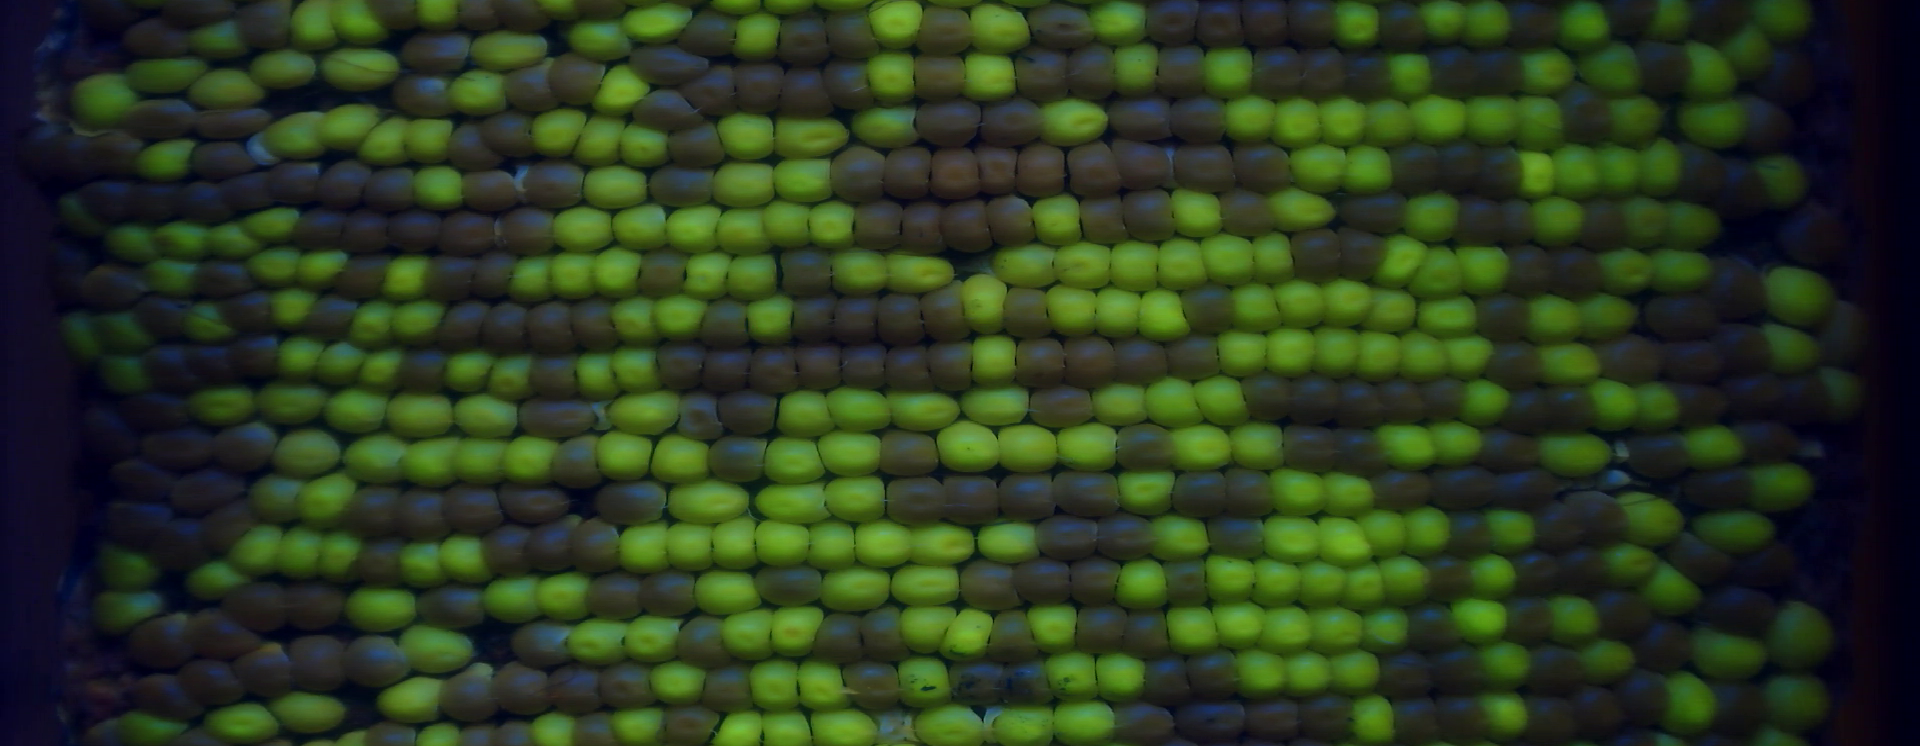fluorescent: (1755, 663, 1837, 729), (1768, 265, 1844, 332), (1766, 601, 1840, 665), (659, 478, 757, 526), (763, 156, 847, 209), (1673, 94, 1755, 149), (574, 160, 658, 214), (1533, 432, 1624, 481), (814, 568, 900, 620), (1403, 89, 1479, 147), (398, 617, 475, 674), (1691, 627, 1777, 677), (882, 243, 961, 296), (1615, 491, 1689, 549), (293, 467, 364, 526), (744, 652, 808, 717), (1714, 17, 1776, 85), (714, 105, 786, 162), (1536, 337, 1613, 390), (1660, 668, 1718, 737), (1038, 98, 1116, 149), (62, 75, 143, 124), (964, 1, 1037, 55), (447, 393, 528, 442), (1578, 40, 1648, 97), (276, 1, 351, 53), (966, 330, 1029, 392), (711, 201, 778, 260), (1458, 88, 1524, 147), (705, 157, 779, 209), (1180, 375, 1254, 428), (589, 426, 658, 483), (1685, 513, 1780, 554), (884, 387, 962, 436), (373, 677, 452, 726), (960, 43, 1020, 107), (989, 236, 1063, 288), (749, 481, 835, 526), (618, 615, 687, 670), (1307, 514, 1375, 570), (1314, 463, 1379, 521), (1022, 600, 1089, 657), (198, 701, 283, 745), (907, 521, 983, 570), (116, 54, 208, 94), (1308, 323, 1369, 383), (383, 390, 458, 439), (689, 570, 764, 619), (647, 659, 718, 710), (531, 573, 599, 627), (320, 48, 404, 91), (618, 119, 687, 171), (1195, 48, 1264, 100), (527, 102, 585, 163), (1266, 187, 1340, 236), (1107, 238, 1164, 300), (1641, 556, 1704, 612), (1140, 377, 1205, 432), (936, 418, 1000, 473), (824, 386, 895, 436), (340, 584, 421, 628), (1374, 554, 1440, 608), (771, 390, 839, 442), (1303, 605, 1370, 658), (392, 435, 460, 486), (1223, 423, 1297, 470), (818, 475, 888, 526), (588, 64, 653, 118), (1136, 281, 1190, 345), (996, 423, 1060, 477), (560, 20, 640, 62), (851, 518, 918, 570), (561, 614, 628, 665), (1371, 423, 1439, 474), (864, 50, 923, 109), (465, 29, 553, 69), (391, 293, 451, 350), (315, 98, 383, 148), (820, 428, 889, 478), (1685, 38, 1735, 107), (407, 160, 470, 214), (340, 434, 410, 483), (1147, 511, 1212, 563), (118, 706, 202, 746), (604, 390, 683, 432), (82, 588, 162, 631), (820, 245, 887, 296), (1258, 512, 1324, 563), (864, 1, 936, 49), (850, 103, 924, 148), (792, 657, 851, 714), (1376, 232, 1434, 290), (396, 539, 456, 595), (1461, 1, 1521, 58), (1455, 244, 1518, 296), (1254, 600, 1319, 652), (623, 4, 693, 51), (1589, 246, 1659, 294), (1478, 510, 1548, 557), (1085, 1, 1158, 47), (891, 604, 958, 654), (1283, 138, 1349, 189), (770, 118, 852, 158), (888, 566, 967, 608), (1547, 142, 1604, 200), (1314, 96, 1373, 152), (1261, 323, 1321, 379), (269, 428, 340, 474), (1053, 423, 1120, 472), (498, 432, 560, 486), (480, 572, 544, 624), (261, 110, 331, 157), (758, 434, 828, 480), (678, 249, 735, 306), (1092, 650, 1151, 706), (767, 605, 825, 660), (804, 707, 895, 742), (661, 205, 729, 252), (1516, 44, 1578, 96), (1051, 703, 1125, 746), (1604, 96, 1668, 146), (189, 69, 276, 105), (133, 134, 202, 180), (973, 521, 1042, 567), (1269, 469, 1333, 518), (1104, 42, 1161, 98), (571, 110, 627, 167), (269, 690, 348, 730), (1400, 194, 1458, 247), (1216, 325, 1275, 379), (312, 529, 365, 589), (1593, 142, 1644, 203), (894, 655, 956, 706), (1353, 606, 1416, 657), (607, 201, 671, 250), (958, 271, 1007, 334), (1113, 468, 1177, 517), (178, 559, 257, 598), (1524, 296, 1588, 345), (956, 383, 1031, 425), (1331, 1, 1386, 58), (1513, 92, 1569, 148), (1409, 243, 1463, 300), (354, 115, 413, 168), (1232, 647, 1291, 699), (1453, 380, 1513, 431), (1582, 382, 1642, 434), (1166, 425, 1232, 472), (322, 387, 392, 431), (587, 246, 648, 296), (1038, 653, 1100, 703), (1223, 279, 1284, 330), (1157, 601, 1220, 650), (647, 432, 709, 481), (749, 519, 817, 565), (1746, 465, 1817, 508), (1558, 1, 1613, 56), (1032, 194, 1089, 247), (1171, 186, 1227, 240), (1363, 282, 1420, 334), (1090, 282, 1141, 341), (1198, 234, 1256, 285), (1275, 644, 1333, 696), (96, 543, 160, 589), (333, 1, 393, 51), (1090, 379, 1150, 429), (451, 437, 511, 488), (1264, 274, 1324, 325), (1313, 273, 1373, 323), (800, 518, 861, 567), (909, 708, 987, 746), (729, 9, 782, 64), (983, 706, 1057, 746), (1340, 141, 1396, 194), (1396, 331, 1452, 383), (1204, 552, 1260, 605), (260, 383, 331, 425), (660, 521, 719, 571), (1360, 99, 1419, 149), (1294, 562, 1353, 612), (1209, 599, 1267, 649), (549, 206, 613, 251), (1247, 559, 1307, 608), (720, 254, 781, 301), (1414, 292, 1480, 336), (1423, 423, 1489, 467), (942, 604, 996, 658), (229, 522, 284, 575), (609, 343, 665, 394), (485, 352, 541, 403), (1479, 686, 1531, 742), (707, 519, 764, 570), (1680, 426, 1751, 467), (273, 523, 324, 578), (396, 118, 458, 163), (1047, 240, 1109, 285), (1577, 294, 1640, 339), (1397, 503, 1453, 554), (1636, 138, 1684, 197), (1665, 198, 1724, 246), (1652, 247, 1716, 292), (190, 387, 257, 429), (245, 50, 329, 83), (1449, 598, 1509, 644), (803, 198, 855, 252), (609, 295, 662, 347), (1042, 285, 1096, 337), (651, 293, 707, 343), (722, 609, 773, 664), (1351, 328, 1406, 379), (743, 298, 800, 347), (1479, 639, 1536, 688), (252, 474, 310, 522), (1222, 94, 1281, 141), (449, 71, 509, 116), (1756, 1, 1816, 47), (60, 194, 114, 244), (1269, 97, 1322, 147), (1155, 236, 1209, 287), (1333, 561, 1387, 611), (149, 220, 220, 258), (1109, 563, 1167, 610), (96, 222, 162, 262), (1580, 642, 1640, 686), (1387, 53, 1440, 103), (760, 198, 814, 247), (1349, 697, 1406, 744), (1416, 1, 1473, 47), (1438, 334, 1495, 380), (1463, 554, 1521, 599), (436, 532, 486, 583), (383, 250, 432, 303), (1536, 198, 1584, 251), (1764, 323, 1818, 371), (438, 348, 496, 392), (606, 706, 669, 746), (1818, 366, 1869, 416), (294, 245, 353, 288), (576, 348, 624, 399), (1761, 156, 1810, 207), (1635, 382, 1684, 434), (59, 314, 107, 366), (1358, 511, 1411, 559), (1620, 195, 1667, 249), (1547, 598, 1607, 639), (144, 252, 200, 298), (203, 223, 271, 260), (1251, 232, 1299, 283), (1327, 653, 1386, 695), (246, 245, 300, 290), (264, 288, 316, 334), (1512, 147, 1559, 198), (611, 526, 665, 570), (316, 341, 365, 388), (552, 251, 602, 298), (1603, 541, 1648, 593), (99, 316, 156, 356), (273, 334, 320, 382), (1643, 1, 1692, 47), (107, 352, 157, 396), (509, 254, 553, 303), (704, 710, 764, 746), (355, 345, 403, 390), (348, 303, 394, 347), (756, 713, 817, 746), (410, 1, 467, 37), (189, 300, 228, 344), (242, 206, 299, 236), (527, 712, 577, 746), (190, 26, 244, 58), (413, 722, 460, 746)
nonfluorescent: (216, 575, 300, 637), (1329, 423, 1406, 484), (336, 630, 414, 688), (1163, 137, 1240, 195), (1049, 463, 1125, 521), (140, 339, 211, 401), (185, 606, 266, 659), (1172, 695, 1256, 745), (1058, 141, 1127, 202), (1702, 579, 1778, 635), (228, 637, 300, 695), (440, 664, 512, 722), (1779, 211, 1847, 272), (1667, 526, 1734, 587), (1641, 293, 1727, 341), (129, 614, 201, 670), (829, 145, 893, 208), (126, 674, 211, 722), (416, 578, 493, 630), (879, 428, 953, 481), (102, 500, 182, 549), (178, 652, 249, 707), (643, 160, 719, 212), (283, 632, 347, 693), (144, 513, 212, 571), (42, 236, 94, 310), (490, 661, 561, 715), (1811, 301, 1869, 367), (1565, 491, 1633, 546), (857, 606, 920, 666), (749, 559, 828, 606), (1624, 434, 1695, 486), (1109, 699, 1189, 746), (911, 49, 972, 109), (1548, 243, 1607, 305), (776, 245, 840, 303), (287, 577, 350, 635), (703, 432, 778, 481), (1330, 224, 1386, 289), (1711, 258, 1767, 323), (1059, 556, 1127, 610), (392, 69, 459, 122), (971, 96, 1053, 140), (489, 206, 557, 258), (544, 48, 605, 107), (921, 145, 984, 201), (981, 608, 1044, 664), (958, 556, 1022, 611), (1367, 468, 1441, 516), (517, 394, 598, 439), (1336, 190, 1414, 235), (1177, 285, 1245, 337), (1000, 281, 1059, 341), (937, 470, 1005, 522), (813, 610, 872, 670), (567, 292, 626, 352), (917, 285, 978, 343), (591, 481, 673, 524), (1763, 47, 1818, 110), (909, 100, 988, 145), (509, 617, 579, 668), (1674, 138, 1727, 205), (1162, 96, 1233, 145), (400, 24, 471, 73), (1106, 136, 1173, 187), (1058, 338, 1119, 394), (997, 473, 1065, 523), (694, 296, 757, 352), (1221, 465, 1283, 521), (824, 9, 888, 62), (105, 457, 179, 503), (514, 163, 588, 209), (1435, 135, 1488, 200), (675, 616, 740, 669), (582, 571, 647, 624), (627, 45, 711, 86), (841, 659, 907, 710), (438, 483, 504, 534), (1596, 334, 1667, 382), (1014, 48, 1071, 107), (879, 142, 938, 200), (1124, 187, 1180, 247), (1184, 644, 1244, 701), (1614, 673, 1676, 726), (1716, 322, 1779, 375), (1528, 643, 1592, 696), (1684, 470, 1760, 514), (1033, 511, 1098, 562), (1226, 146, 1296, 194), (1160, 338, 1233, 383), (1108, 334, 1174, 385), (1156, 40, 1213, 98), (1239, 1, 1298, 58), (1286, 227, 1344, 283), (567, 519, 623, 578), (1206, 517, 1277, 563), (1724, 367, 1791, 416), (771, 16, 836, 66), (1478, 142, 1528, 207), (714, 386, 784, 432), (552, 432, 609, 490), (730, 62, 789, 118), (1559, 86, 1614, 145), (1736, 418, 1802, 467), (1589, 592, 1656, 641), (1385, 691, 1444, 746), (637, 247, 692, 306), (1014, 145, 1074, 198), (1569, 684, 1629, 737), (174, 176, 234, 230), (774, 69, 835, 121), (78, 176, 141, 228), (628, 82, 697, 129), (1428, 464, 1500, 508), (541, 664, 606, 713), (328, 254, 393, 303), (1522, 690, 1578, 746), (1069, 601, 1127, 657), (80, 402, 138, 456), (1687, 1, 1757, 47), (127, 386, 203, 428), (697, 342, 757, 394), (885, 475, 948, 526), (454, 165, 525, 209), (1218, 189, 1282, 238), (171, 468, 246, 510), (1637, 40, 1693, 96), (1716, 160, 1769, 218), (1117, 608, 1174, 661), (678, 9, 743, 56), (122, 96, 195, 138), (1778, 367, 1831, 426), (1065, 40, 1117, 100), (396, 490, 456, 541), (348, 485, 408, 537), (400, 345, 460, 397), (1091, 513, 1157, 560), (28, 134, 94, 180), (77, 267, 153, 307), (1483, 341, 1545, 390), (944, 664, 1007, 713), (1100, 98, 1171, 141), (184, 103, 269, 138), (913, 9, 977, 56), (313, 156, 369, 211), (1477, 293, 1533, 347), (1442, 506, 1496, 562), (1074, 194, 1131, 246), (936, 201, 993, 254), (1289, 372, 1347, 425), (1423, 552, 1480, 605), (1499, 594, 1558, 646), (1505, 1, 1565, 51), (1633, 622, 1693, 673), (598, 659, 658, 709), (207, 426, 279, 468), (241, 1, 302, 50), (880, 345, 936, 399), (1336, 376, 1391, 430), (1731, 548, 1805, 588), (1390, 138, 1442, 195), (481, 105, 539, 157), (1296, 691, 1354, 741), (302, 292, 362, 341), (664, 129, 732, 171), (1020, 9, 1095, 48), (1011, 559, 1073, 606), (1433, 695, 1494, 742), (1239, 693, 1300, 741), (138, 428, 220, 463), (1375, 1, 1429, 55), (525, 521, 579, 575), (1298, 45, 1351, 100), (419, 252, 474, 305), (1287, 1, 1344, 51), (1374, 379, 1431, 429), (1160, 559, 1217, 609), (1431, 646, 1489, 696), (502, 66, 561, 115), (1112, 425, 1173, 472), (1250, 47, 1304, 99), (1422, 379, 1474, 432), (981, 195, 1036, 246), (1015, 338, 1070, 390), (1670, 379, 1733, 424), (1194, 1, 1250, 51), (876, 289, 926, 345), (438, 295, 489, 352), (198, 503, 258, 550), (1273, 426, 1335, 472), (1501, 246, 1554, 299), (340, 206, 393, 258), (355, 539, 410, 589), (182, 333, 238, 383), (973, 141, 1022, 197), (1580, 198, 1629, 255), (227, 328, 283, 377), (290, 206, 347, 255), (1167, 470, 1229, 514), (1480, 425, 1538, 473), (1494, 465, 1558, 508), (386, 206, 446, 251), (1240, 371, 1293, 423), (1742, 94, 1793, 148), (820, 60, 877, 108), (786, 299, 842, 347), (1716, 684, 1763, 740), (999, 661, 1056, 709), (1029, 387, 1095, 428), (1146, 1, 1205, 47), (193, 258, 263, 296), (1500, 388, 1553, 439), (640, 571, 696, 619), (1455, 195, 1501, 251), (1544, 386, 1600, 432), (1378, 652, 1434, 698), (1526, 503, 1583, 549), (1594, 1, 1660, 40), (436, 209, 495, 254), (830, 293, 880, 344), (1343, 49, 1392, 102), (748, 345, 801, 394), (1145, 657, 1198, 706), (129, 178, 182, 225), (491, 490, 574, 521), (218, 171, 276, 216), (899, 205, 950, 254), (1431, 47, 1479, 99), (138, 293, 191, 341), (193, 137, 257, 176), (1556, 548, 1607, 597), (484, 524, 534, 573), (1498, 200, 1544, 252), (677, 386, 724, 439), (927, 341, 973, 393), (1668, 336, 1727, 377), (83, 131, 137, 176), (489, 298, 527, 361), (528, 352, 584, 394), (365, 167, 421, 209), (449, 119, 500, 167), (527, 298, 573, 349), (691, 65, 736, 118), (122, 23, 191, 58), (662, 704, 719, 746), (1408, 601, 1456, 650), (471, 251, 517, 303), (849, 198, 901, 243), (266, 159, 320, 202), (1510, 554, 1562, 597), (791, 348, 846, 388), (1479, 47, 1524, 96), (703, 664, 752, 709), (219, 292, 277, 330), (451, 1, 506, 40), (156, 1, 245, 24), (362, 1, 420, 37), (838, 343, 887, 385), (495, 1, 553, 29), (572, 714, 620, 746), (365, 720, 418, 746), (495, 722, 542, 746)
